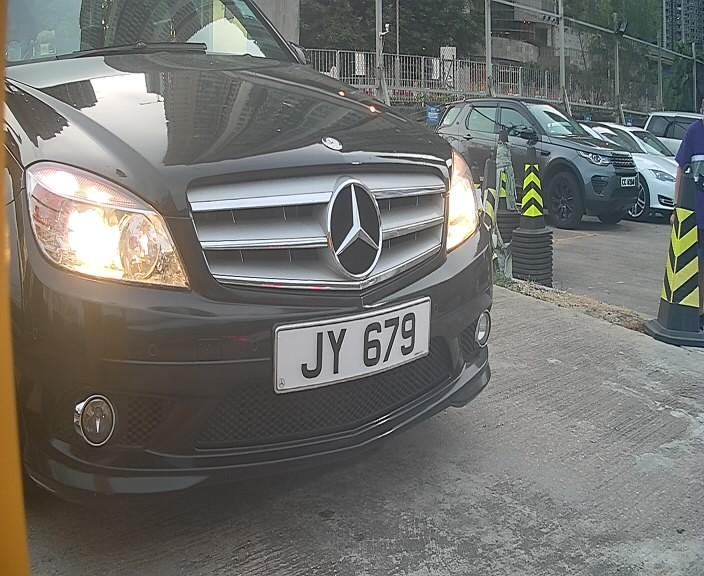privatecar: (2, 3, 510, 518)
